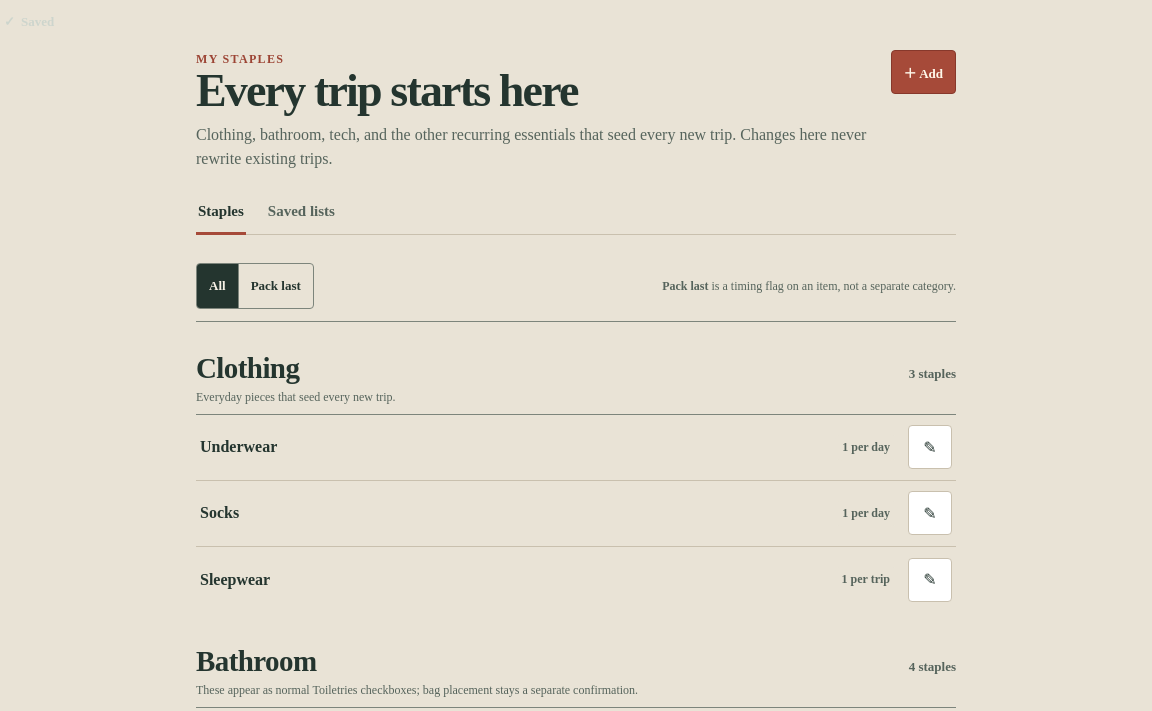
Test: the Pack last filter › narrows to Pack last staples, hides empty sections, and announces the count
expect the element named "Filter staples" is shown: met, box [196,263,314,309]
Click the button "Pack last".
click(275, 286)  # box [238,264,313,308]
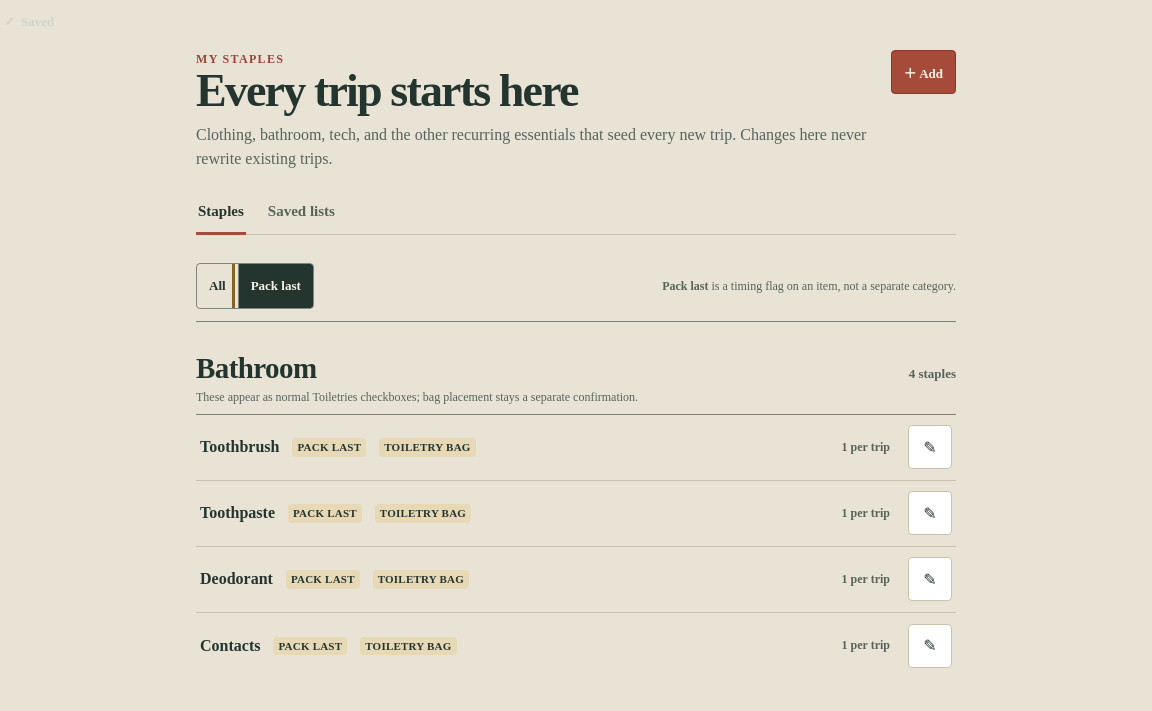
expect the element named "Bathroom" is shown: met, box [196,336,956,683]
expect the button "Pack last" is pressed: met, box [238,264,313,308]
expect the button "All" is not pressed: met
Click the button "All".
click(217, 286)  # box [197,264,238,308]
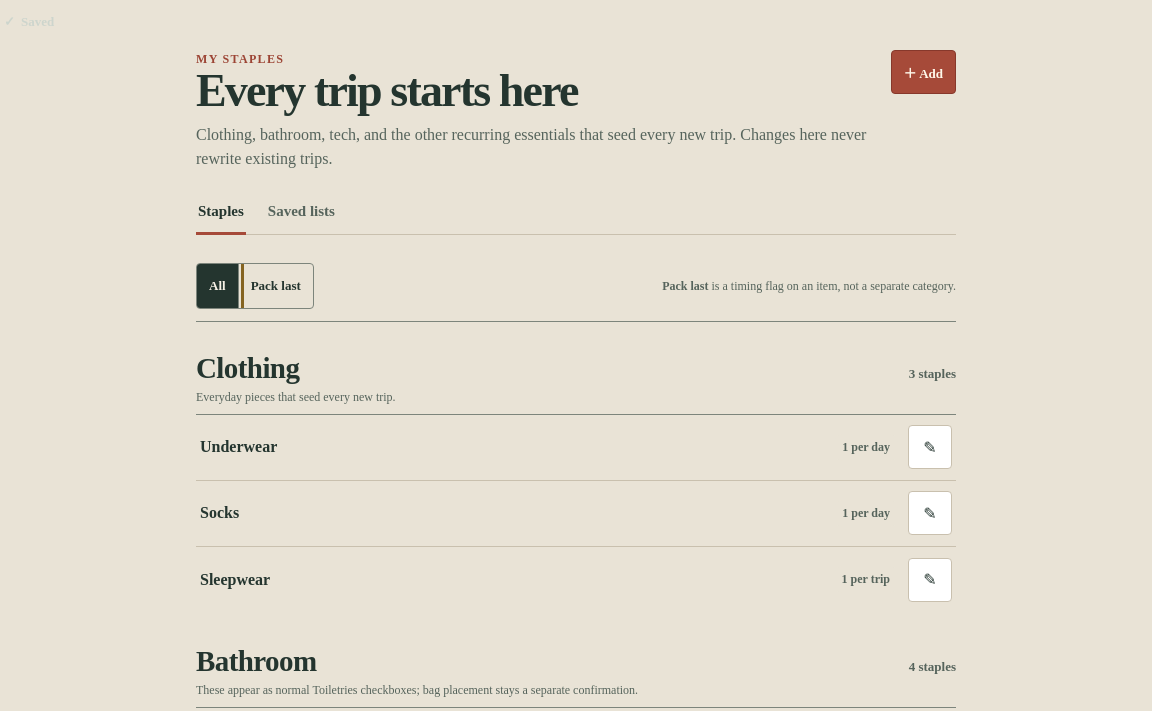
expect the element named "Clothing" is shown: met, box [196,336,956,617]
